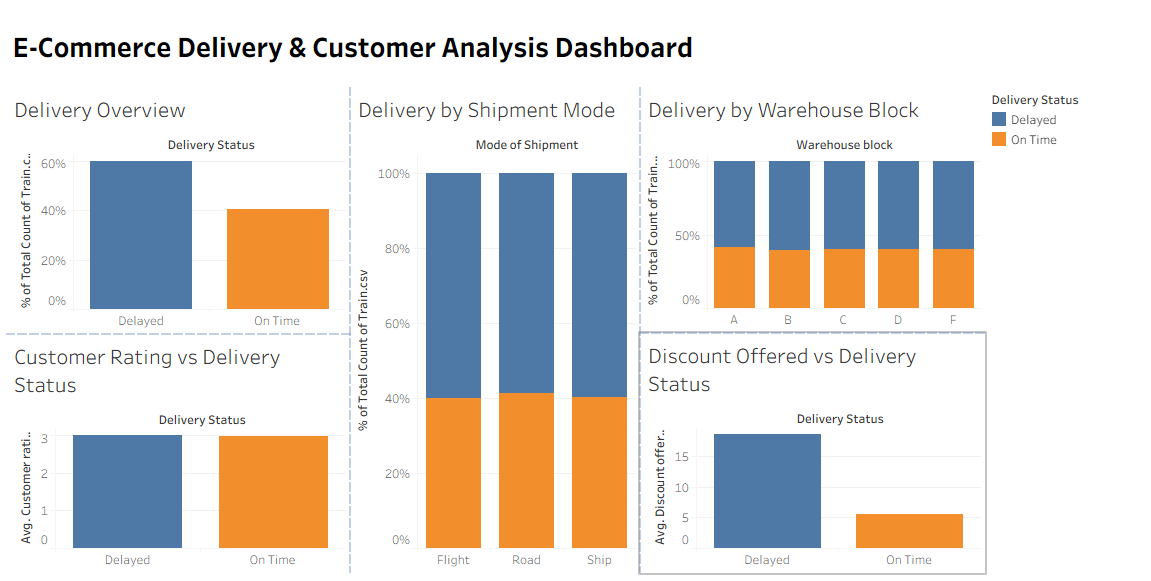

The page's visual inventory and layout, read from the dashboard file:
{"tool":"tableau","page":{"name":"Dashboard 1","canvas":[1000,1000],"units":"permille","ordinal":0},"visuals":[{"type":"text","box":[6.9,13.7,986.1,140.4]},{"type":"worksheet","title":"Delivery Overview ","mark":"Automatic","rows":["Train.csv_D29A5D8C8B304CC7B1667E8616E426D3"],"cols":["Calculation_0672924849700864"],"box":[6.9,154.1,298,422.9]},{"type":"worksheet","title":"Delivery by Shipment Mode ","mark":"Automatic","cols":["Mode_of_Shipment"],"box":[304.9,154.1,250.8,832.2]},{"type":"worksheet","title":"Delivery by Warehouse Block","mark":"Automatic","cols":["Warehouse_block"],"box":[555.7,154.1,298.8,421.2]},{"type":"legend","title":"Delivery by Shipment Mode ","param":"[federated.12oxrn308fgfnl12em1v00mjkaxm].[none:Calculation_0672924849700864:nk]","box":[854.5,154.1,138.5,113]},{"type":"worksheet","title":"Discount Offered vs Delivery Status ","mark":"Automatic","rows":["Discount_offered"],"cols":["Calculation_0672924849700864"],"box":[555.7,575.3,298.8,411]},{"type":"worksheet","title":"Customer Rating vs Delivery Status ","mark":"Automatic","rows":["Customer_rating"],"cols":["Calculation_0672924849700864"],"box":[6.9,577.1,298,409.2]}]}

Visuals, with their boxes on the dashboard's canvas, which has no fixed pixel size, in thousandths of its width and height (x1, y1, x2, y2). These are canvas units, not pixel positions in the 1151x581 screenshot, which may show the page scaled, cropped or inside an application window:
text: BBox(7, 14, 993, 154)
"Delivery Overview " worksheet: BBox(7, 154, 305, 577)
"Delivery by Shipment Mode " worksheet: BBox(305, 154, 556, 986)
"Delivery by Warehouse Block" worksheet: BBox(556, 154, 854, 575)
"Delivery by Shipment Mode " legend: BBox(854, 154, 993, 267)
"Discount Offered vs Delivery Status " worksheet: BBox(556, 575, 854, 986)
"Customer Rating vs Delivery Status " worksheet: BBox(7, 577, 305, 986)
